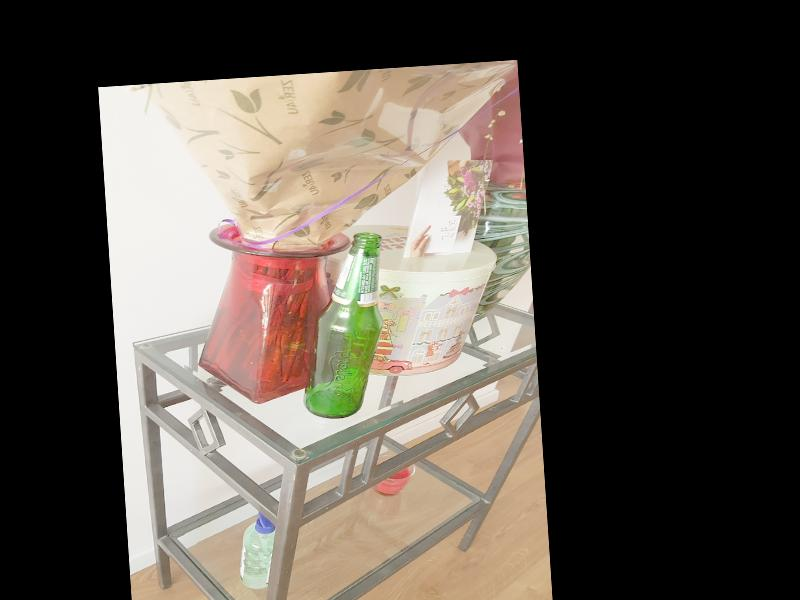Beer: (294, 230, 391, 421)
